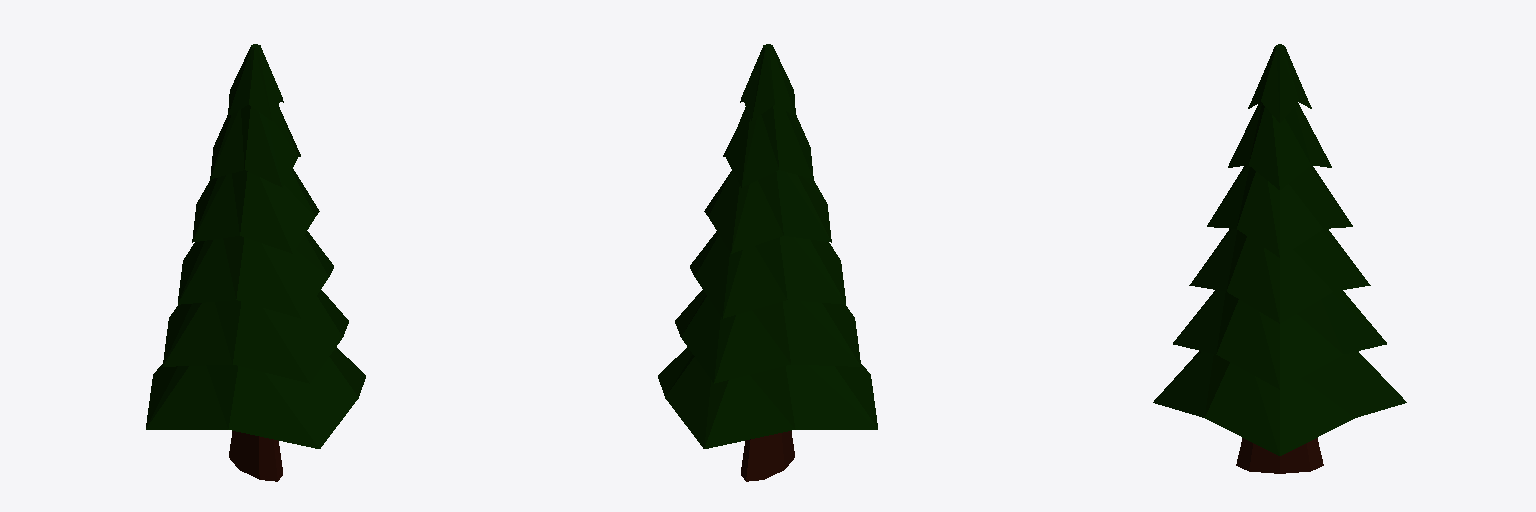
Rendered from tree1.obj.
The picture shows the model from 3 angles: view 1: azimuth 30°, elevation 25°; view 2: azimuth 150°, elevation 25°; view 3: azimuth 270°, elevation 25°; orthographic projection.
Visible parts, largest first — view 1: Cylinder, Cylinder.001; view 2: Cylinder, Cylinder.001; view 3: Cylinder, Cylinder.001.
Boxes of the visible parts, x1,y1,x2,y2 form: Cylinder: [146, 44, 365, 448]; Cylinder.001: [229, 431, 282, 481]; Cylinder: [658, 44, 877, 448]; Cylinder.001: [741, 431, 794, 481]; Cylinder: [1153, 44, 1406, 455]; Cylinder.001: [1236, 438, 1323, 473].
Bounding box in the file's own units: 4.07 × 7.38 × 4.07.